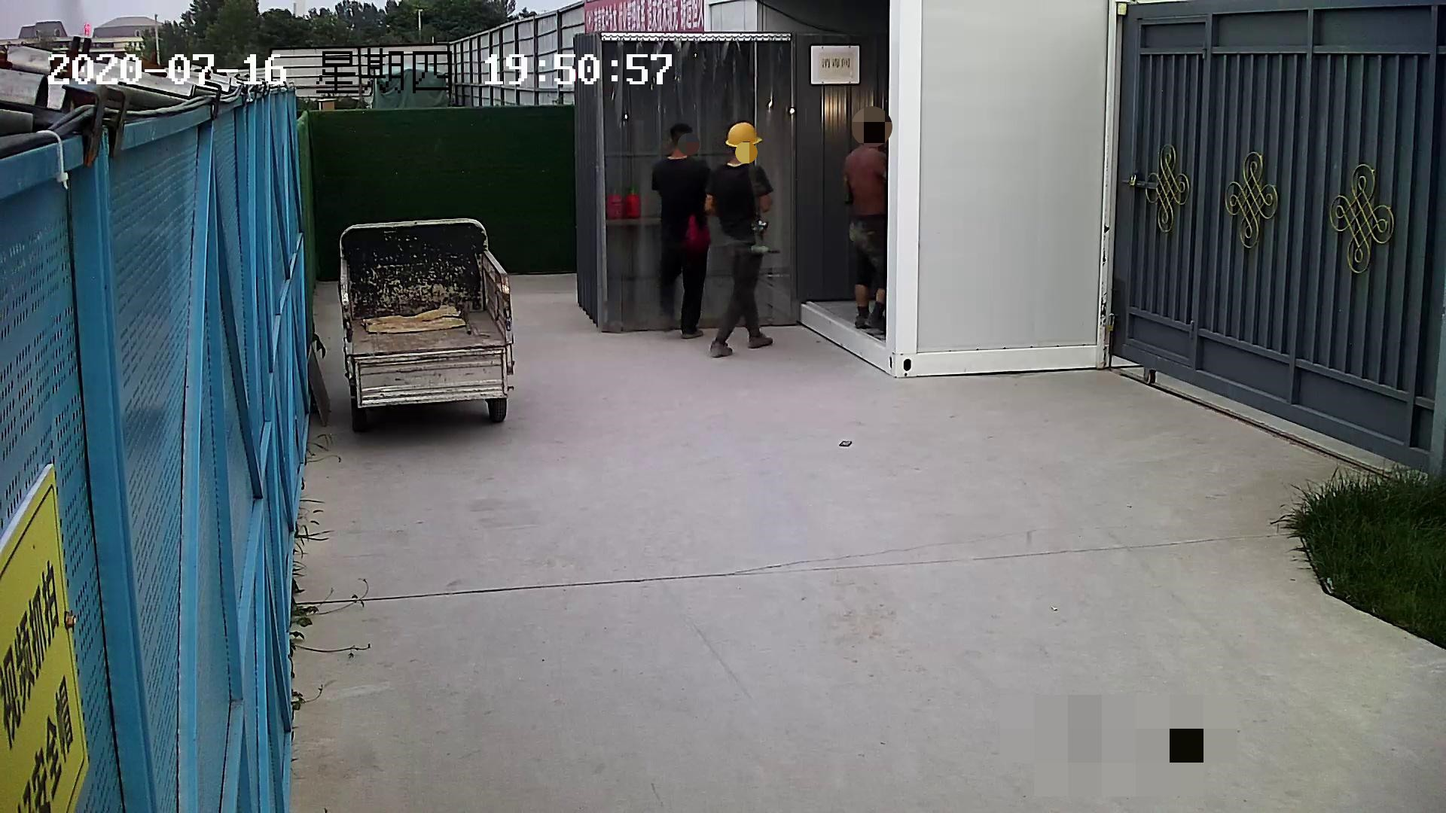hat: (725, 121, 761, 158)
head: (856, 108, 888, 145), (669, 123, 694, 152)
person: (697, 120, 775, 358), (648, 120, 713, 341), (835, 105, 890, 331)
